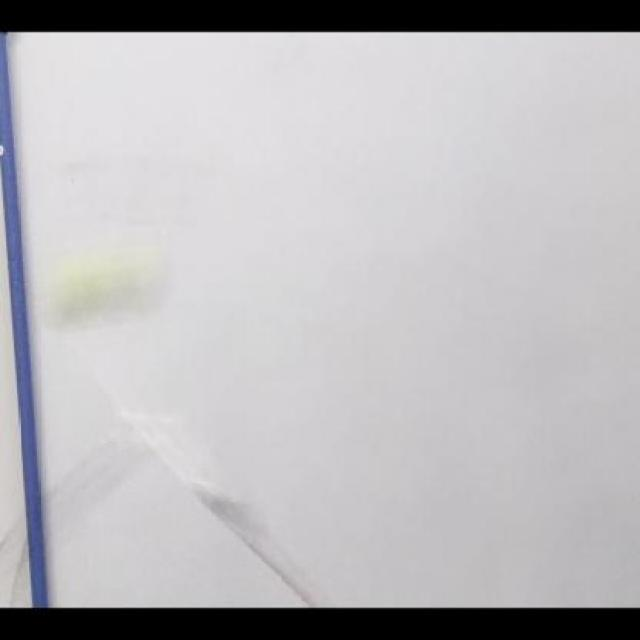baseball: (41, 238, 167, 336)
